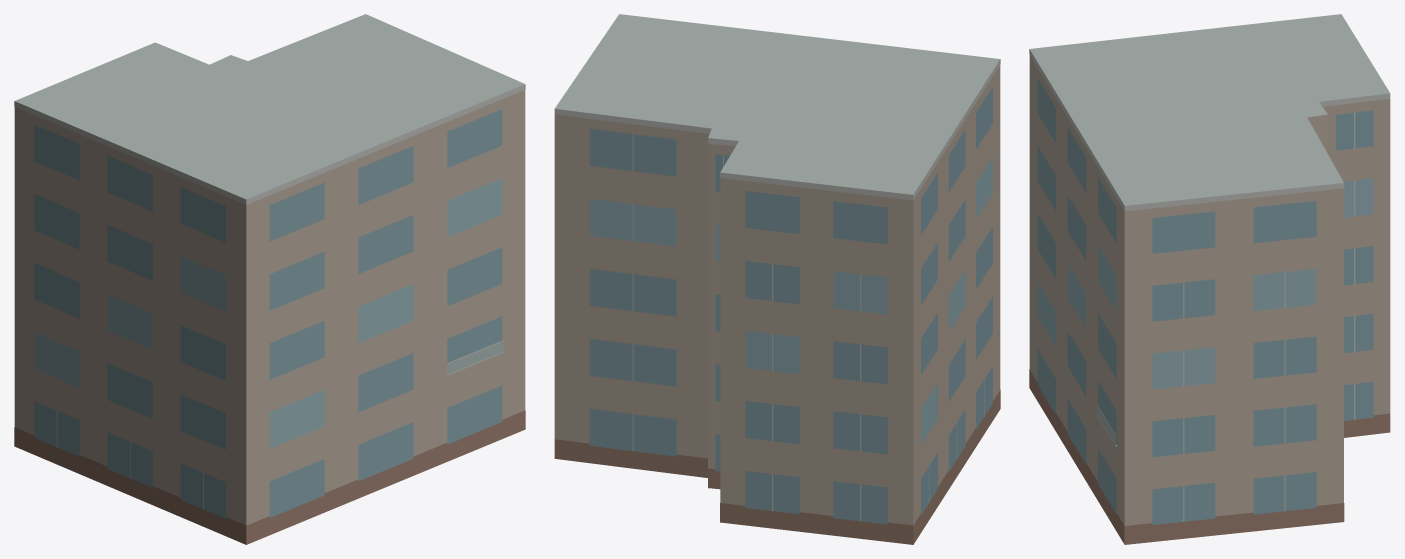
Rendered from survey-upis-32486254.glb.
3 views of the same model, side by side, from view 1: azimuth 30°, elevation 25°; view 2: azimuth 150°, elevation 25°; view 3: azimuth 270°, elevation 25° (orthographic). The views are drawn at different scales.
Parts seen in each view (by area): view 1: survey-upis-32486254.tmp; view 2: survey-upis-32486254.tmp; view 3: survey-upis-32486254.tmp.
Boxes of the visible parts, x1,y1,x2,y2 form: survey-upis-32486254.tmp: (14,14,525,544); survey-upis-32486254.tmp: (554,14,1000,544); survey-upis-32486254.tmp: (1029,14,1390,544).
Bounding box in the file's own units: 18.52 × 15.25 × 14.72.
